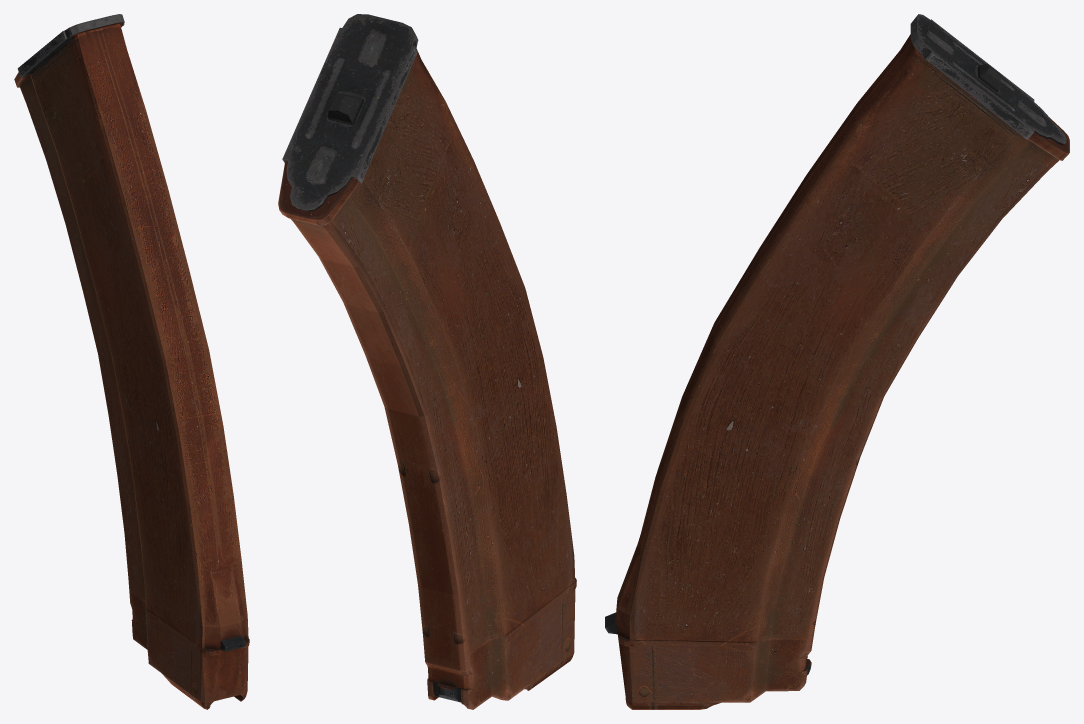
The picture shows the model from 3 angles, left to right: view 1: azimuth 30°, elevation 25°; view 2: azimuth 150°, elevation 25°; view 3: azimuth 270°, elevation 25°; orthographic projection. The views are drawn at different scales.
Visible parts, largest first — view 1: TW_564ca9df4bdc2d35148b4569_PZ_Import; view 2: TW_564ca9df4bdc2d35148b4569_PZ_Import; view 3: TW_564ca9df4bdc2d35148b4569_PZ_Import.
Boxes of the visible parts, box(x1,y1,x2,y2) form: TW_564ca9df4bdc2d35148b4569_PZ_Import: box(14, 14, 249, 709); TW_564ca9df4bdc2d35148b4569_PZ_Import: box(278, 14, 576, 709); TW_564ca9df4bdc2d35148b4569_PZ_Import: box(605, 14, 1069, 709).
Bounding box in the file's own units: 0.0162 × 0.0963 × 0.1546.
1 material, 1 textured.
